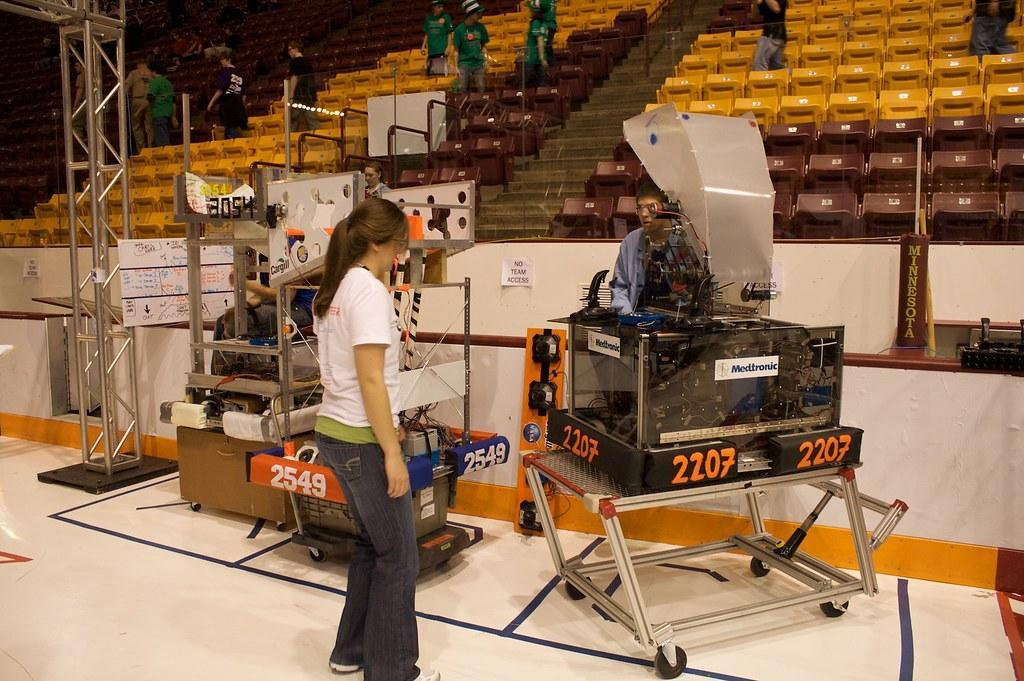robot: (540, 96, 869, 496), (246, 163, 512, 507), (143, 83, 382, 443)
